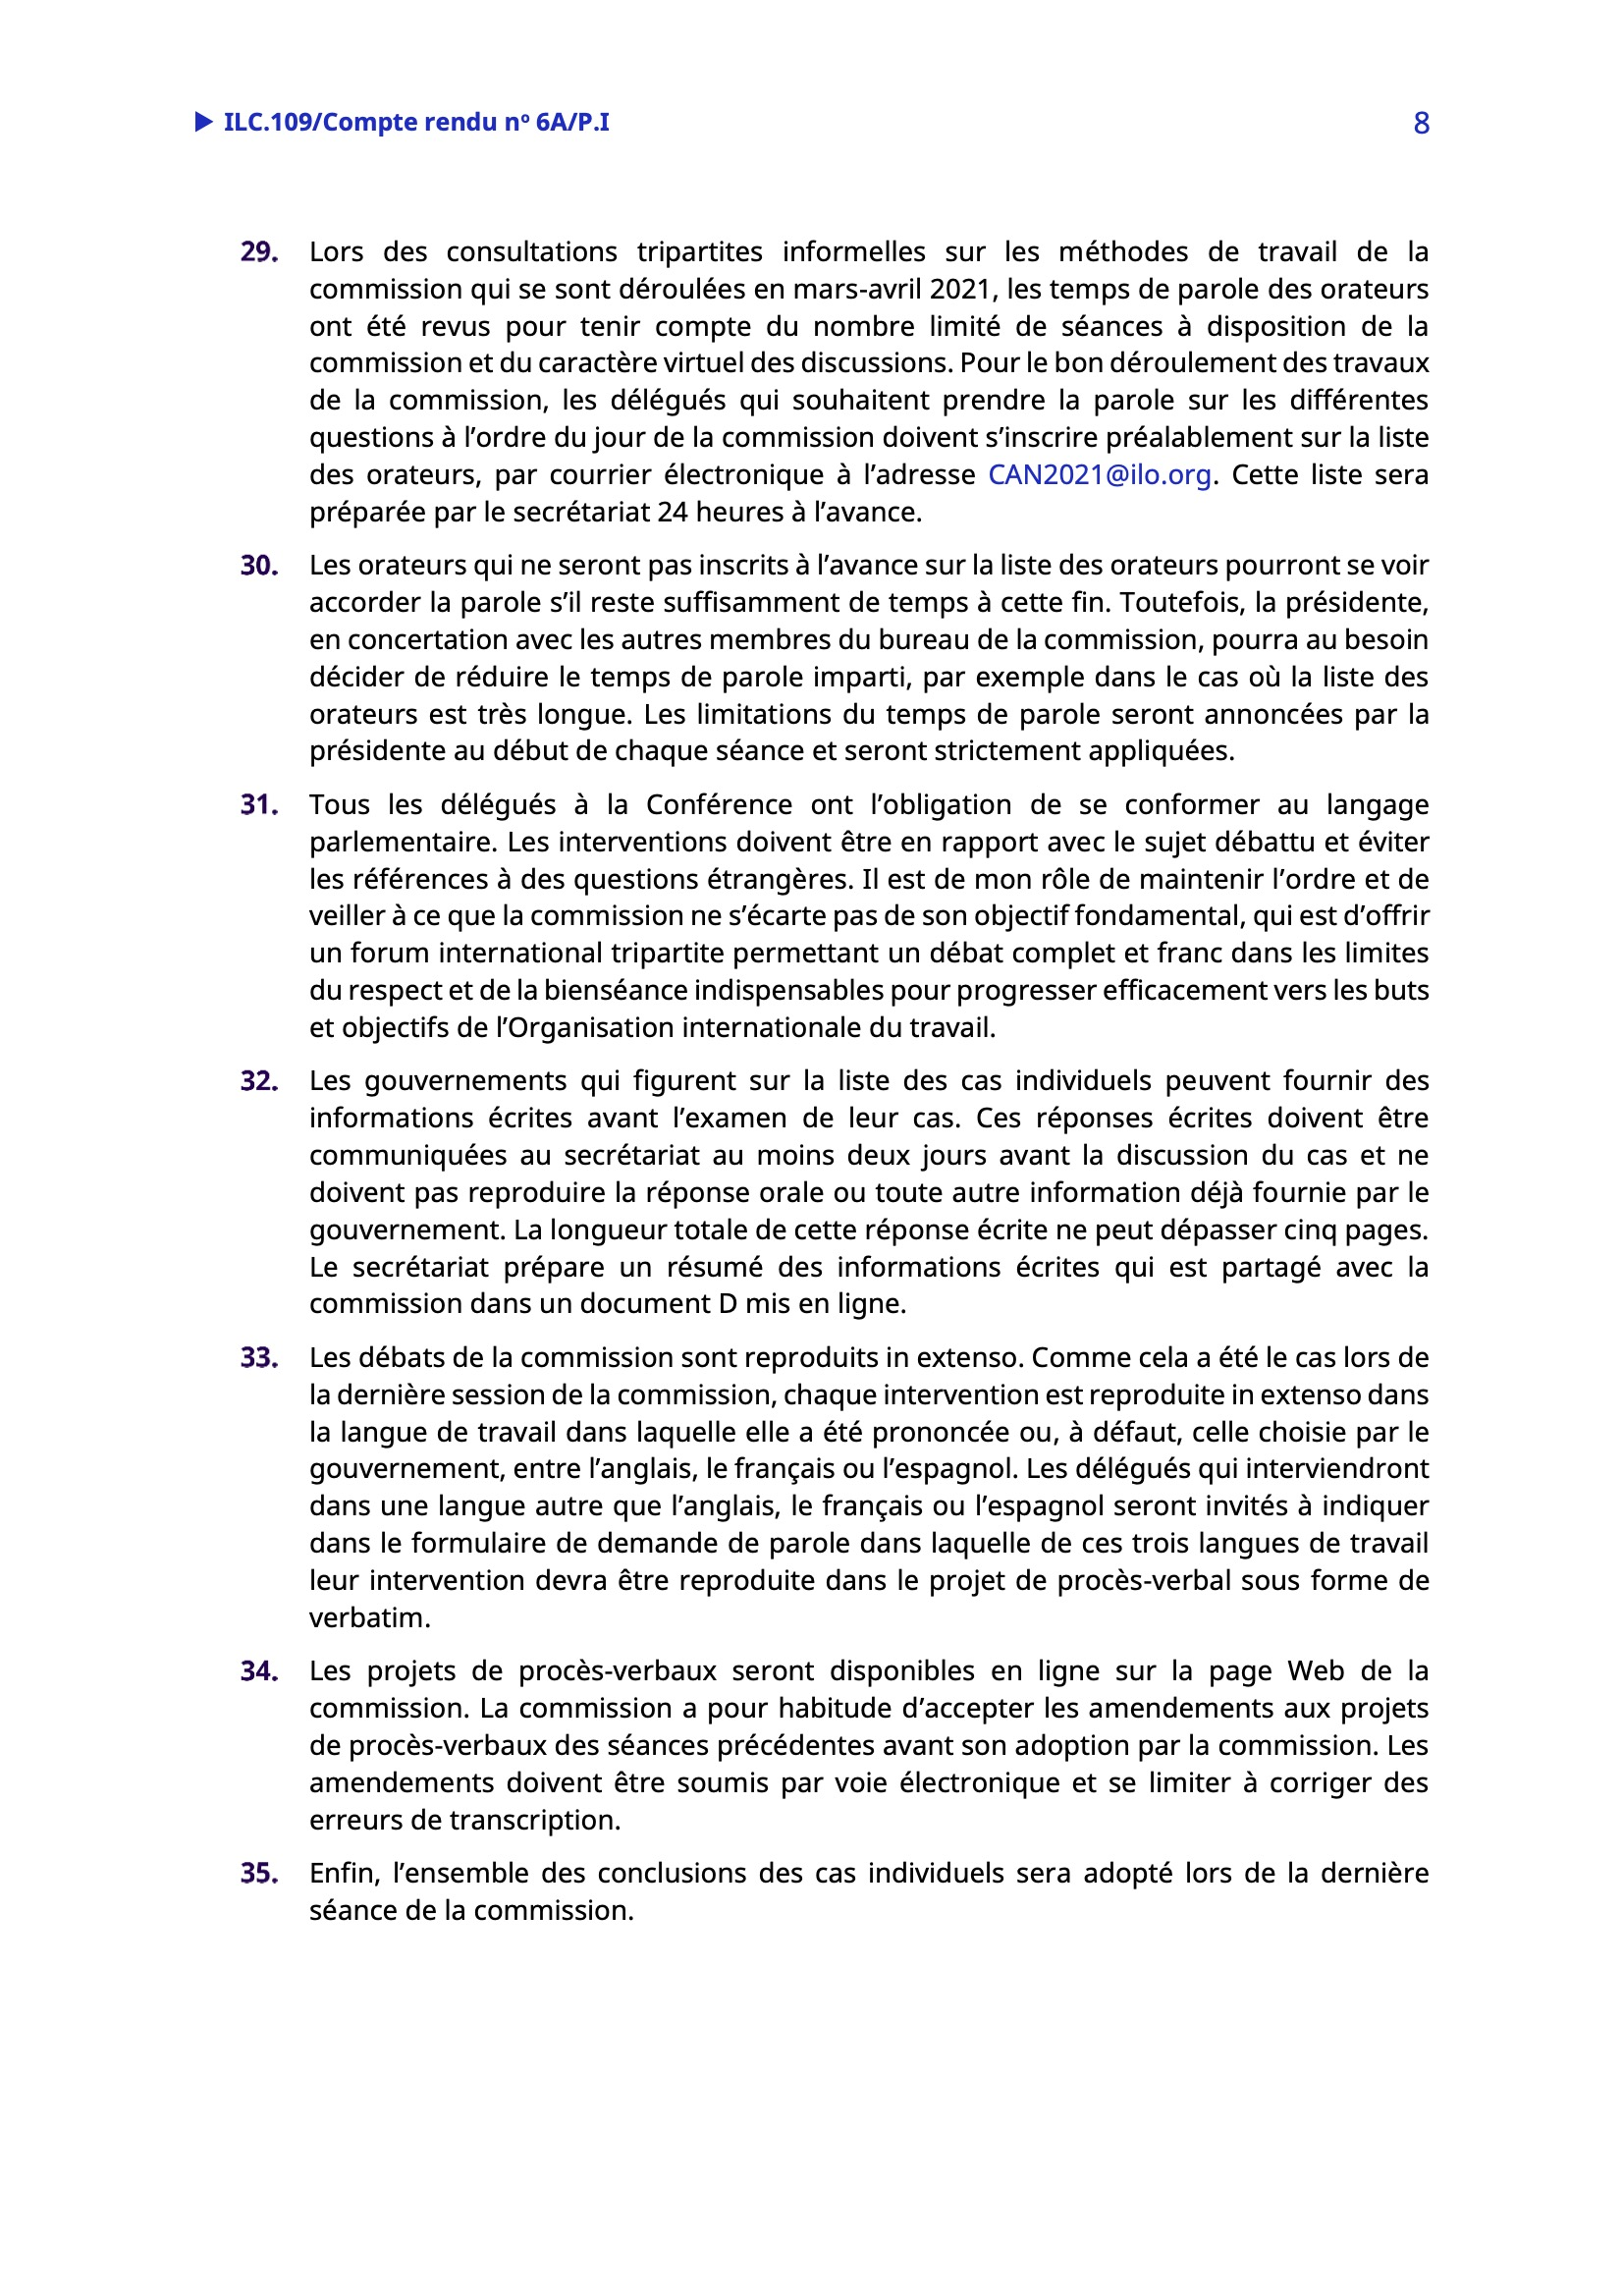MainZone-ListItem: (220, 226, 1437, 534), (225, 1334, 1439, 1637), (227, 778, 1437, 1049), (228, 1058, 1437, 1325), (228, 539, 1438, 772), (225, 1647, 1438, 1845), (217, 1847, 1452, 1947)
StampZone: (182, 94, 622, 150)
TitlePageZone: (1401, 98, 1436, 153)
